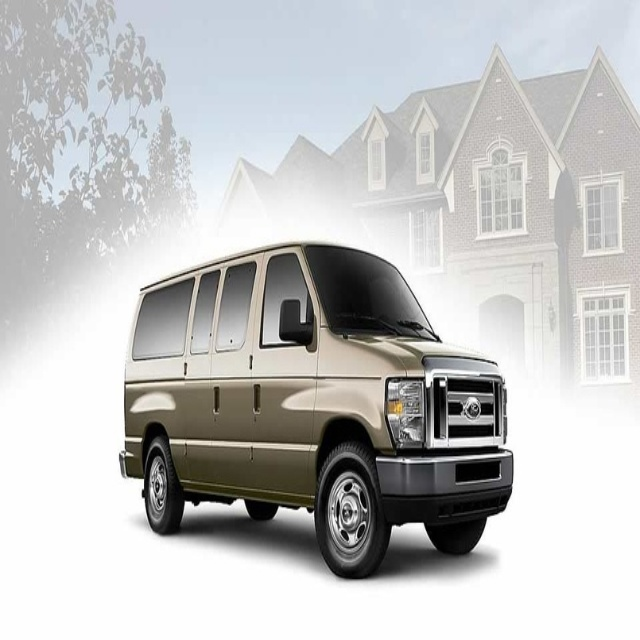Van: (118, 242, 514, 581)
